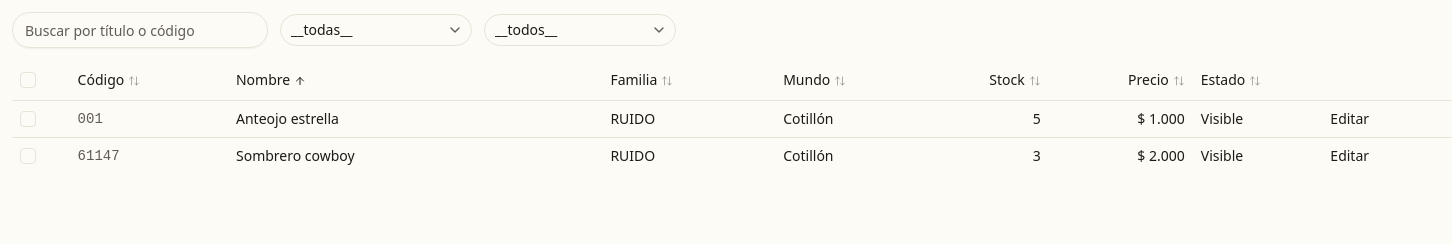
Test: PublicadoTab — selección múltiple › seleccionar una fila muestra la barra de acciones con el conteo
The width and height of the screenshot is (1452, 244).
Expected: the row "001 Anteojo estrella RUIDO Cotillón 5 $ 1.000 Visible Editar" is shown, [12, 100, 1451, 137]
Click the checkbox named "Seleccionar Anteojo estrella": point(28, 118) [20, 110, 36, 126]
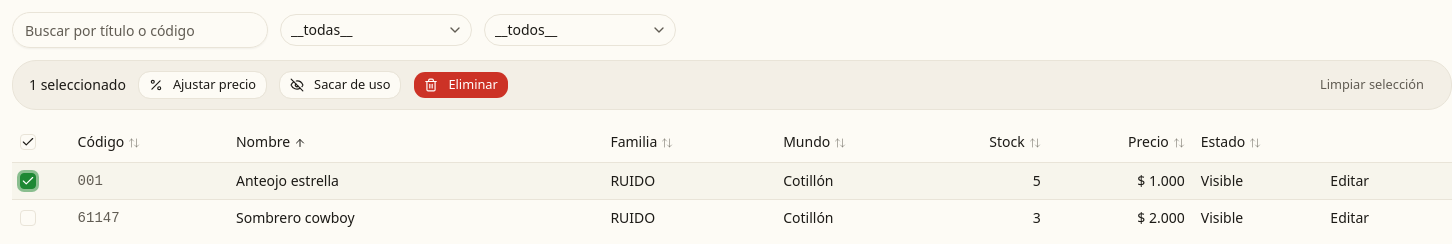
Expected: the text "1 seleccionado" is shown, [29, 75, 126, 95]
